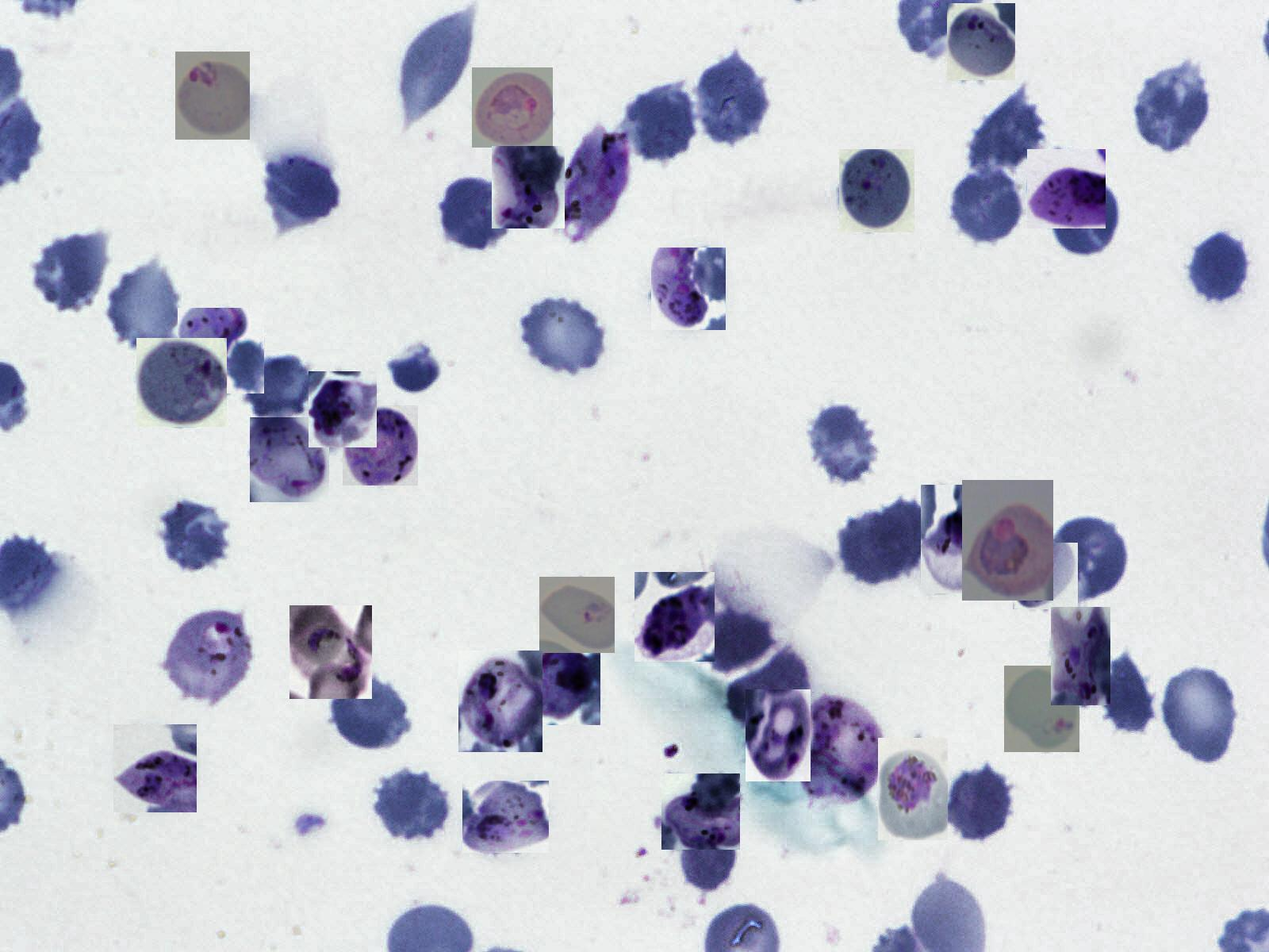Infected: (962, 480, 1053, 601), (803, 694, 886, 808), (163, 607, 255, 707), (556, 125, 631, 244), (458, 651, 542, 752), (136, 338, 227, 427), (289, 605, 372, 699), (113, 724, 197, 812), (178, 308, 264, 393), (634, 572, 715, 662), (878, 738, 948, 840), (921, 485, 986, 593), (250, 417, 329, 502), (175, 52, 250, 140), (472, 67, 553, 148), (1004, 666, 1079, 752), (462, 781, 549, 853), (1027, 149, 1106, 228), (839, 149, 914, 232), (651, 248, 726, 330), (343, 405, 418, 486), (661, 774, 740, 850), (492, 146, 565, 228), (746, 689, 811, 781), (1051, 608, 1110, 706), (539, 577, 615, 653), (526, 651, 600, 725), (947, 3, 1015, 80), (309, 371, 377, 447), (1013, 543, 1078, 609)
Uninfected: (397, 5, 477, 129), (1159, 664, 1240, 769), (692, 49, 770, 148), (1132, 63, 1213, 155), (518, 294, 608, 376), (727, 642, 811, 728), (105, 259, 181, 353), (969, 86, 1048, 175), (29, 229, 110, 314), (695, 597, 778, 677), (261, 148, 341, 228), (623, 80, 697, 166), (372, 768, 453, 846), (328, 675, 410, 752), (1051, 517, 1128, 597), (438, 175, 514, 253), (805, 406, 880, 485), (949, 164, 1023, 244), (156, 496, 232, 573), (945, 762, 1016, 843), (239, 349, 316, 422), (1186, 228, 1254, 308), (1049, 178, 1119, 255), (1095, 650, 1156, 738), (867, 495, 931, 572), (839, 512, 903, 584), (679, 814, 737, 892)
